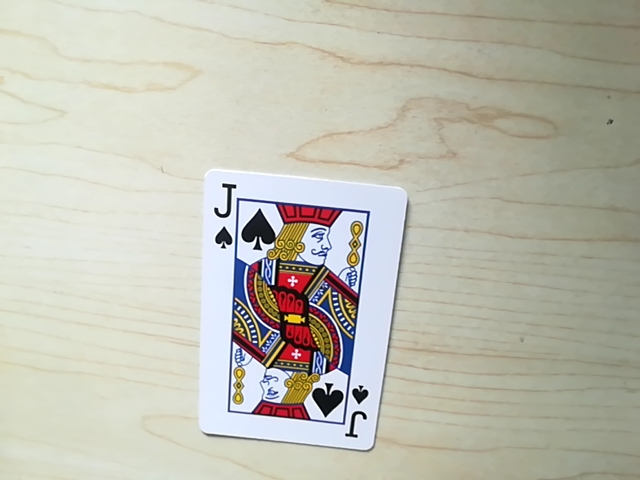ht j: (204, 179, 242, 248), (338, 387, 369, 441)
